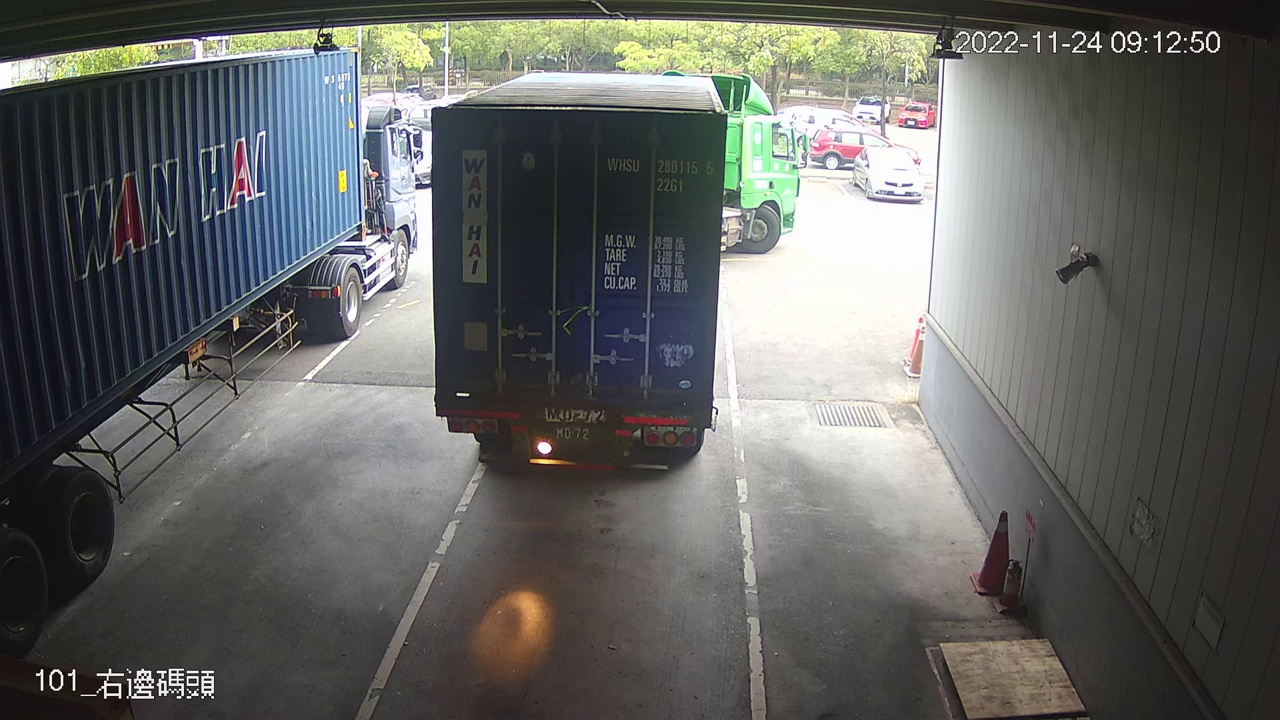container: (603, 152, 718, 196)
